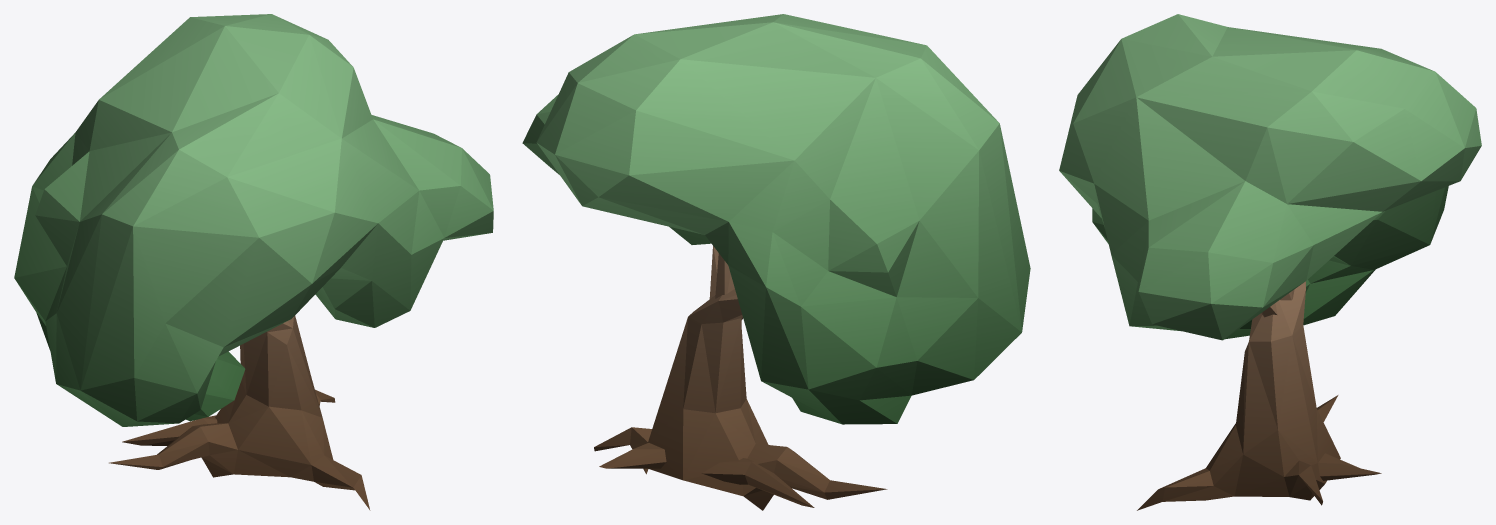
3 renders of one model, left to right at view 1: azimuth 30°, elevation 25°; view 2: azimuth 150°, elevation 25°; view 3: azimuth 270°, elevation 25°, orthographic. The views are drawn at different scales.
Visible parts, largest first — view 1: Arbol2_0; view 2: Arbol2_0; view 3: Arbol2_0.
Boxes of the visible parts, x1,y1,x2,y2 form: Arbol2_0: (14, 14, 493, 510); Arbol2_0: (522, 14, 1030, 510); Arbol2_0: (1059, 14, 1481, 510).
Bounding box in the file's own units: 18.19 × 17.24 × 15.02.
Materials: 1 (1 with a texture image).
